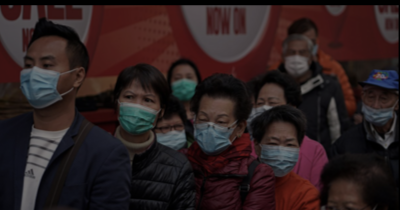mask_weared_incorrect: (362, 89, 397, 126)
with_mask: (19, 53, 75, 109), (116, 89, 161, 136), (193, 108, 238, 155), (258, 134, 300, 178), (155, 118, 187, 151), (170, 70, 200, 100), (281, 47, 312, 76)
